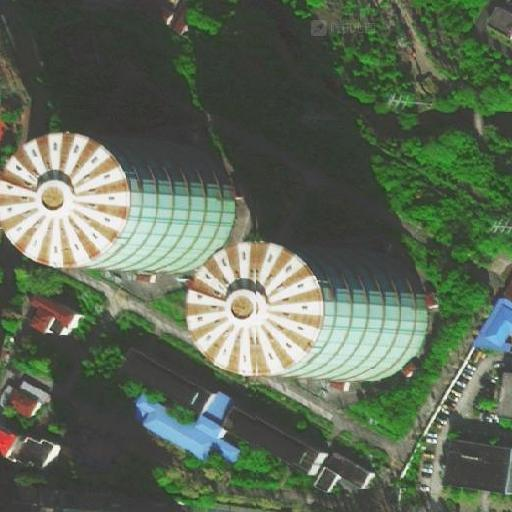building: (100, 152, 229, 287), (301, 250, 430, 385), (216, 391, 326, 469), (117, 338, 218, 410), (148, 407, 243, 472), (304, 440, 371, 498), (446, 436, 512, 491), (27, 294, 84, 338), (475, 293, 512, 354), (57, 426, 102, 464), (14, 431, 57, 469), (8, 385, 49, 423), (491, 364, 512, 419), (485, 6, 512, 42)
